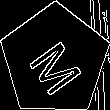M_NE: (22, 27, 87, 94)
